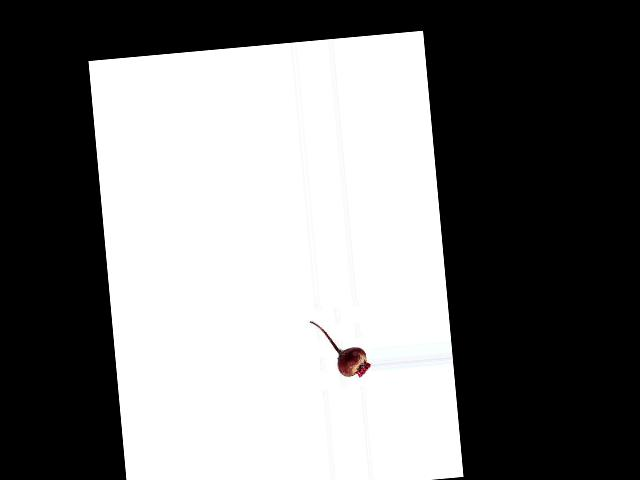beet: (309, 315, 371, 380)
